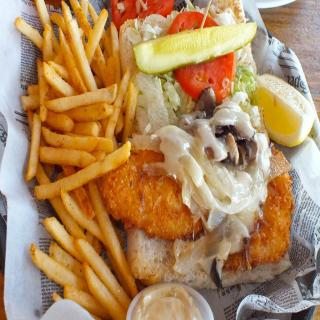French fries: (21, 0, 132, 320)
